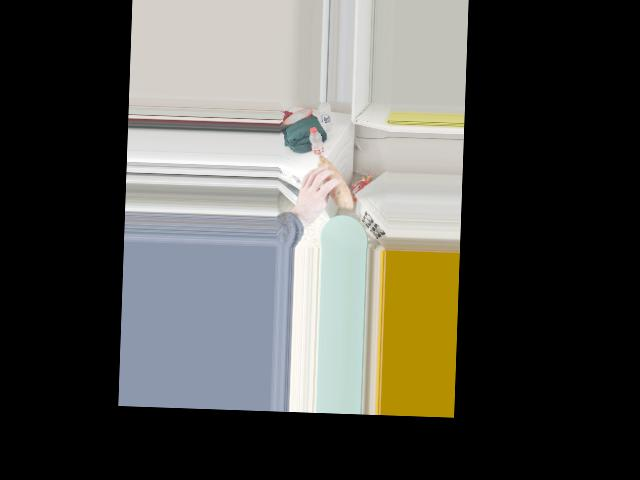sweet_potato: (310, 156, 354, 201)
